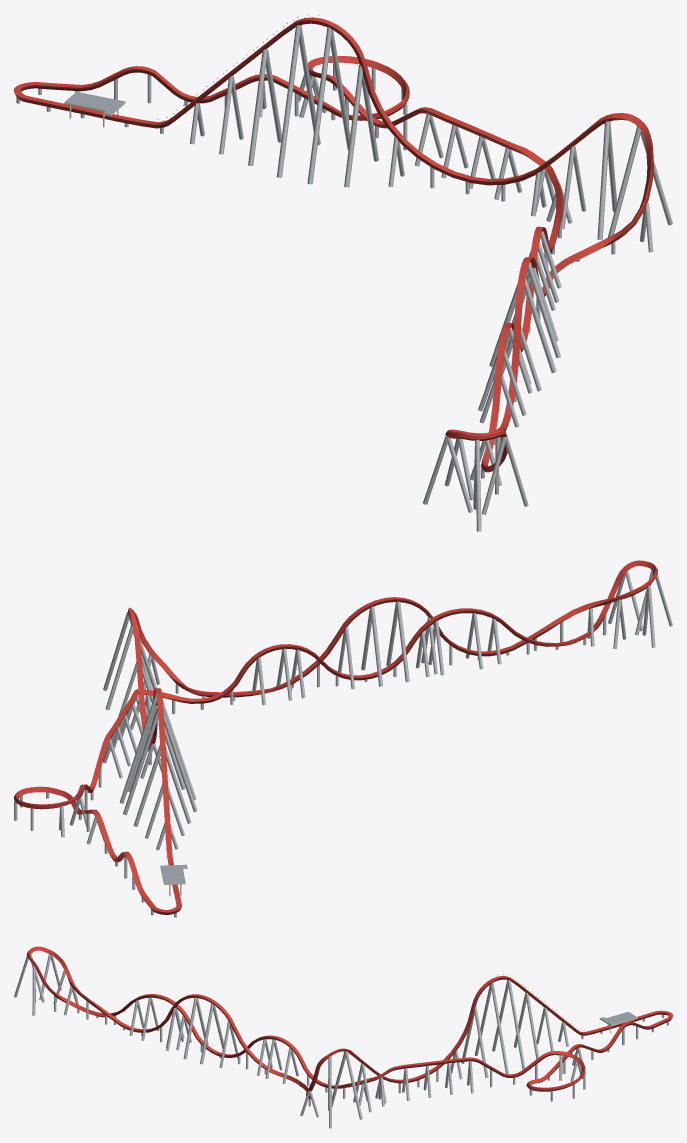
The model's file is carowinds-thunder-striker.glb.
3 views of the same model, one above another, from view 1: azimuth 30°, elevation 25°; view 2: azimuth 150°, elevation 25°; view 3: azimuth 270°, elevation 25° (orthographic). The views are drawn at different scales.
Visible parts, largest first — view 1: Thunder Striker; view 2: Thunder Striker; view 3: Thunder Striker.
Part boxes in pixels (x1,y1,x2,y2): Thunder Striker: (14,14,672,531); Thunder Striker: (14,560,672,917); Thunder Striker: (14,946,672,1128).
Size of the model in its own units: 248 by 78.36 by 502.
